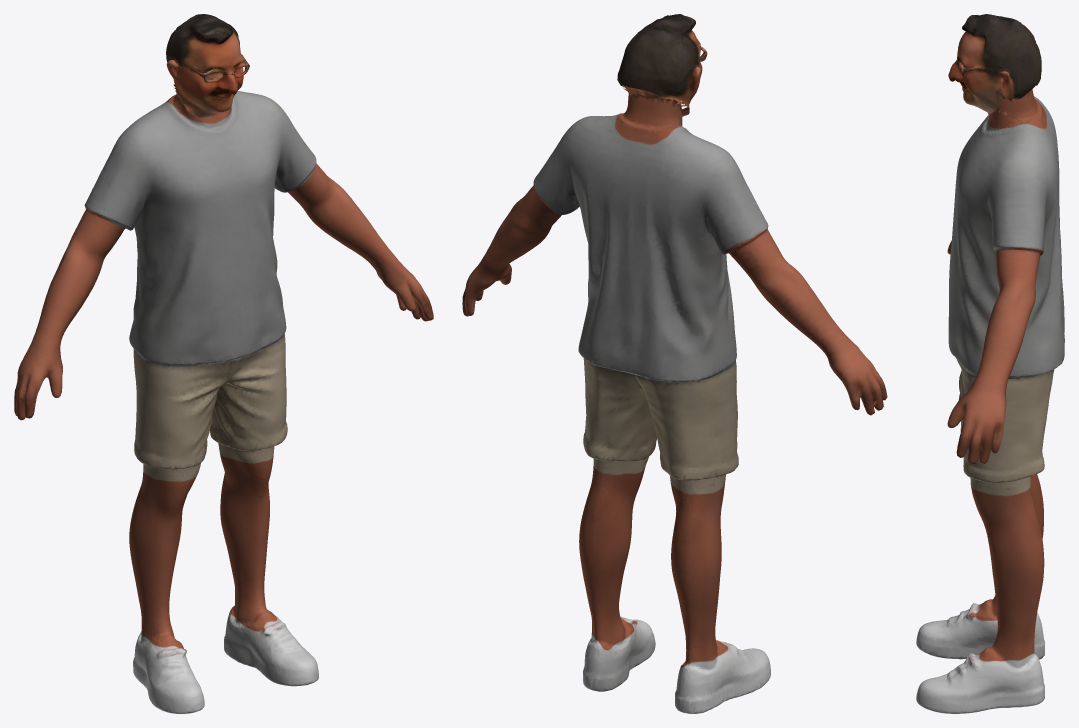
The model's file is jackson-tshirt-shorts-clean.glb.
The picture shows the model from 3 angles, left to right: view 1: azimuth 30°, elevation 25°; view 2: azimuth 150°, elevation 25°; view 3: azimuth 270°, elevation 25°; orthographic projection.
Parts seen in each view (by area): view 1: body_tshirt_shorts, head_neck_textured; view 2: body_tshirt_shorts, head_neck_textured; view 3: body_tshirt_shorts, head_neck_textured.
Part boxes in pixels (x1,y1,x2,y2): body_tshirt_shorts: (14, 84, 433, 713); head_neck_textured: (166, 14, 249, 117); body_tshirt_shorts: (462, 85, 887, 713); head_neck_textured: (617, 14, 707, 113); body_tshirt_shorts: (916, 89, 1064, 713); head_neck_textured: (948, 14, 1041, 113).
Bounding box in the file's own units: 1.19 × 1.8 × 0.3705.
Materials: 2 (1 with a texture image).
